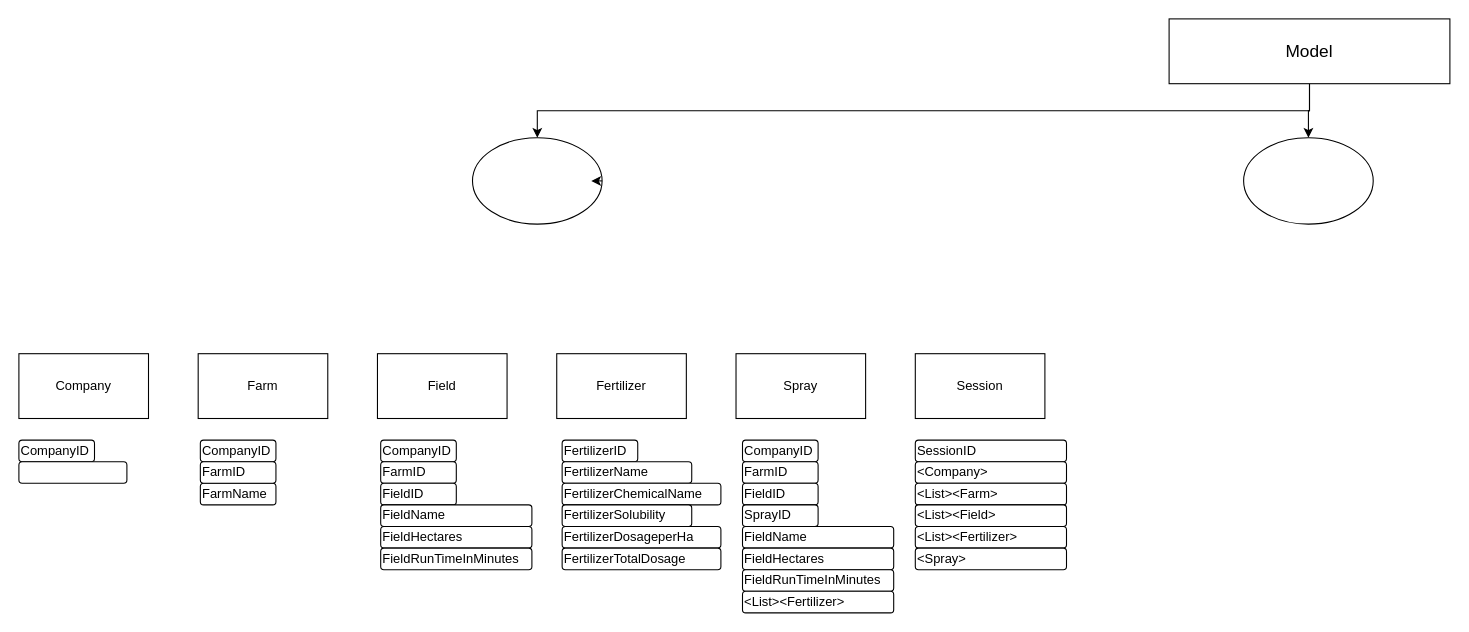
This 1469x632 diagram has some shape labels left out. Here are the shapes that lost their labels. From the top down, the box of each, then its label:
(471, 137, 602, 224): DTO
(18, 461, 127, 483): CompanyName
